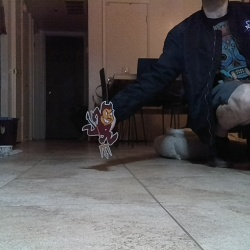sparky: (81, 100, 119, 160)
